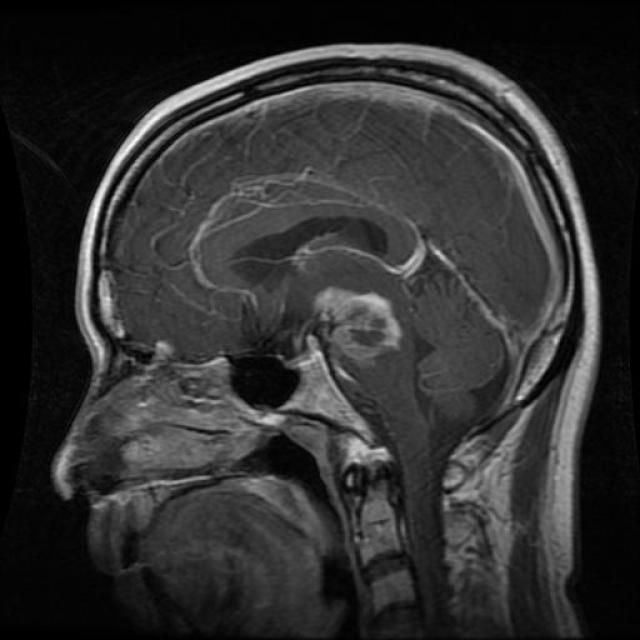brain_tumor: (234, 218, 388, 261)
